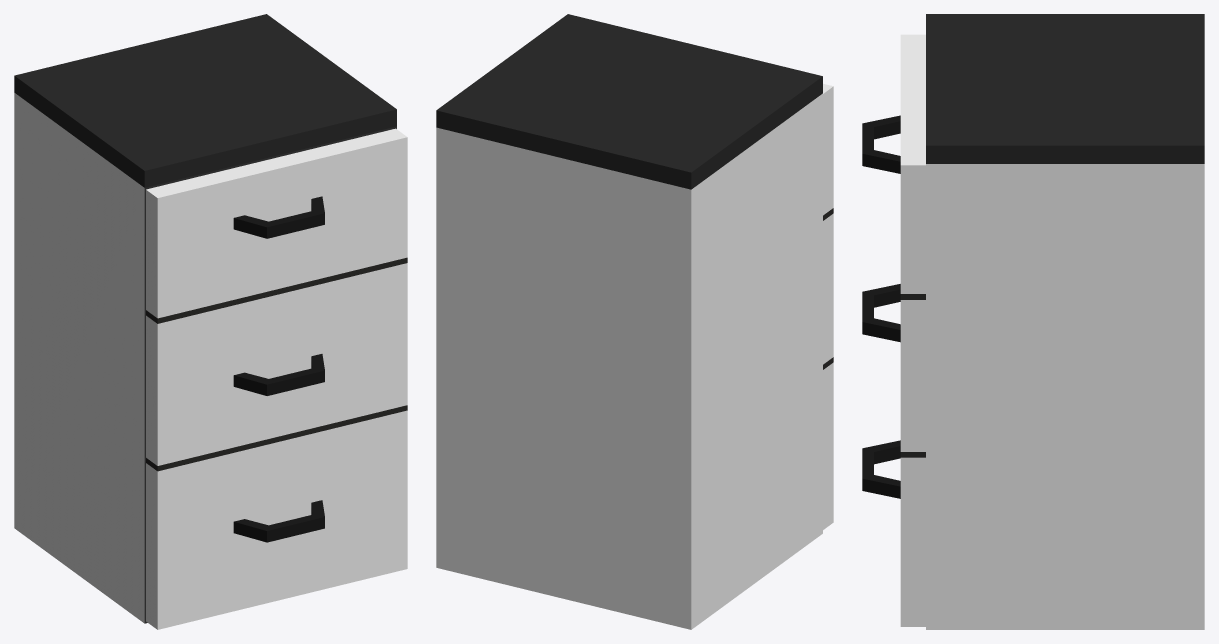
Rendered from Kitchen_Cabinet_2A.fbx.
The picture shows the model from 3 angles, left to right: view 1: azimuth 30°, elevation 25°; view 2: azimuth 150°, elevation 25°; view 3: azimuth 270°, elevation 25°; orthographic projection. The views are drawn at different scales.
Visible parts, largest first — view 1: polySurface1566; view 2: polySurface1566; view 3: polySurface1566.
Part boxes in pixels (box(x1,y1,x2,y2)): polySurface1566: box(14, 14, 407, 629); polySurface1566: box(436, 14, 833, 629); polySurface1566: box(862, 14, 1204, 629).
Size of the model in its own units: 0.7792 by 1.34 by 0.8565.
Materials: 1 (1 with a texture image).
